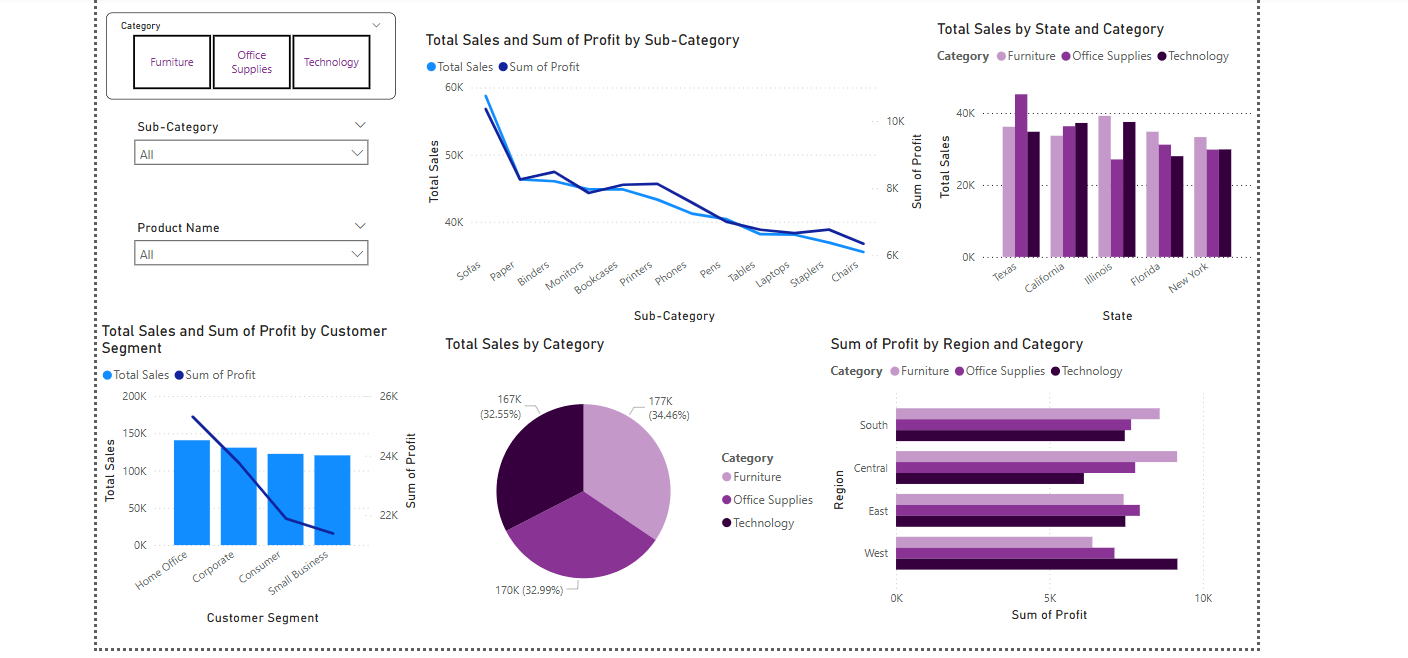

What the dashboard file says about the page in this screenshot:
{"tool":"powerbi","page":{"name":"Page 2","canvas":[1280,720],"ordinal":1},"visuals":[{"type":"lineStackedColumnComboChart","fields":{"Category":["Sheet1.Customer Segment"],"Y":["Sheet1.Total Sales"],"Y2":["Sum(Sheet1.Profit)"]},"box":[0,359.5,357.8,339.6],"z":0},{"type":"pieChart","fields":{"Category":["Sheet1.Category"],"Y":["Sheet1.Total Sales"]},"box":[379.8,374.2,425.2,325],"z":1},{"type":"clusteredBarChart","fields":{"Category":["Sheet1.Region"],"Y":["Sum(Sheet1.Profit)"],"Series":["Sheet1.Category"]},"box":[805,374.2,430.9,321.3],"z":2},{"type":"clusteredColumnChart","fields":{"Category":["Sheet1.State"],"Y":["Sheet1.Total Sales"],"Series":["Sheet1.Category"]},"box":[922.2,26.5,357.2,338.3],"z":3},{"type":"lineChart","fields":{"Category":["Sheet1.Sub-Category"],"Y":["Sheet1.Total Sales"],"Y2":["Sum(Sheet1.Profit)"]},"box":[357.2,37.8,559.4,326.9],"z":4},{"type":"slicer","fields":{"Values":["Sheet1.Product Name"]},"box":[31.5,241.8,278.3,76.2],"z":5},{"type":"slicer","fields":{"Values":["Sheet1.Sub-Category"]},"box":[31.5,130.9,278.3,69.6],"z":6},{"type":"slicer","fields":{"Values":["Sheet1.Category"]},"box":[9.9,18.2,319.7,96.1],"z":7}]}

Visuals, with their boxes on the page's 1280x720 design canvas (x1, y1, x2, y2). These are canvas units, not pixel positions in the 1408x658 screenshot, which may show the page scaled, cropped or inside an application window:
lineStackedColumnComboChart - Sheet1.Customer Segment x Sheet1.Total Sales: rect(0, 360, 358, 699)
pieChart - Sheet1.Category x Sheet1.Total Sales: rect(380, 374, 805, 699)
clusteredBarChart - Sheet1.Region x Sum(Sheet1.Profit): rect(805, 374, 1236, 696)
clusteredColumnChart - Sheet1.State x Sheet1.Total Sales: rect(922, 26, 1279, 365)
lineChart - Sheet1.Sub-Category x Sheet1.Total Sales: rect(357, 38, 917, 365)
slicer - Sheet1.Product Name: rect(32, 242, 310, 318)
slicer - Sheet1.Sub-Category: rect(32, 131, 310, 200)
slicer - Sheet1.Category: rect(10, 18, 330, 114)
